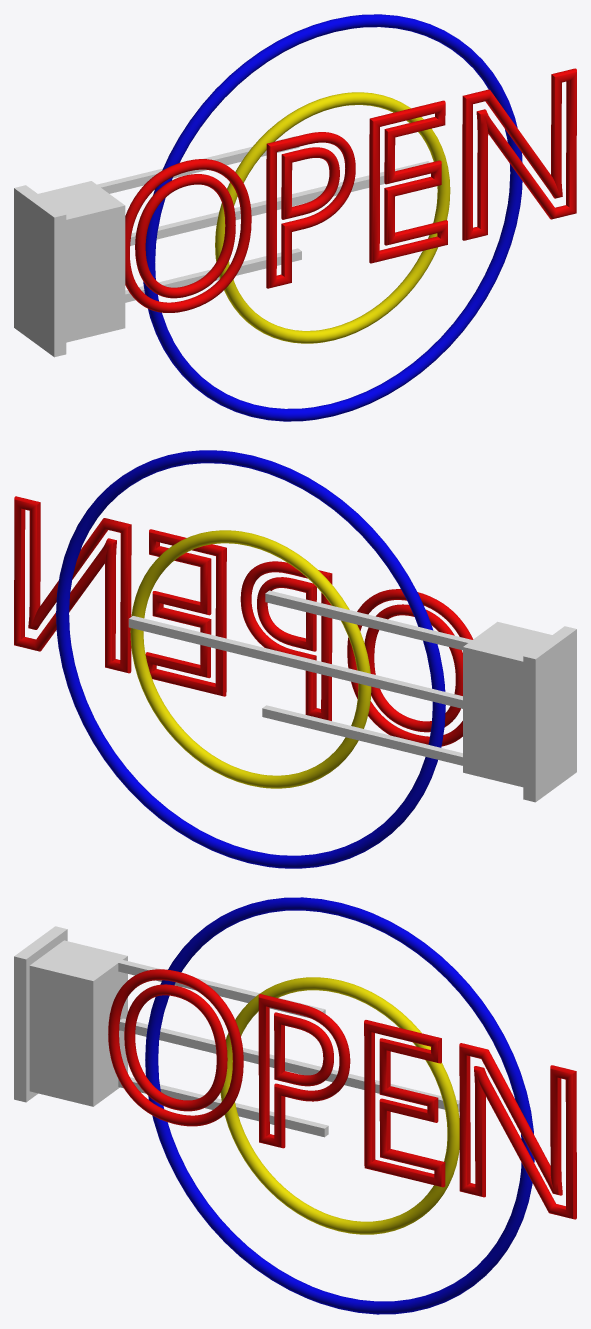
File: Circle Open Sign.fbx
3 views of the same model, one above another, from view 1: azimuth 30°, elevation 25°; view 2: azimuth 150°, elevation 25°; view 3: azimuth 330°, elevation 25° (orthographic). The views are drawn at different scales.
Visible parts, largest first — view 1: Sweep_NURBS, Base, Sweep_NURBS_1, Sweep_NURBS_2; view 2: Base, Sweep_NURBS, Sweep_NURBS_1, Sweep_NURBS_2; view 3: Sweep_NURBS, Base, Sweep_NURBS_1, Sweep_NURBS_2.
Part boxes in pixels (x1=…): Sweep_NURBS: x1=125, y1=68, x2=576, y2=312; Base: x1=14, y1=136, x2=429, y2=357; Sweep_NURBS_1: x1=143, y1=14, x2=522, y2=421; Sweep_NURBS_2: x1=215, y1=92, x2=450, y2=343; Base: x1=128, y1=590, x2=576, y2=802; Sweep_NURBS: x1=14, y1=496, x2=473, y2=746; Sweep_NURBS_1: x1=56, y1=450, x2=445, y2=868; Sweep_NURBS_2: x1=130, y1=530, x2=371, y2=788; Sweep_NURBS: x1=108, y1=969, x2=576, y2=1219; Base: x1=14, y1=926, x2=459, y2=1137; Sweep_NURBS_1: x1=145, y1=897, x2=534, y2=1314; Sweep_NURBS_2: x1=220, y1=977, x2=459, y2=1234.
Size of the model in its own units: 3886 by 2750 by 507.
